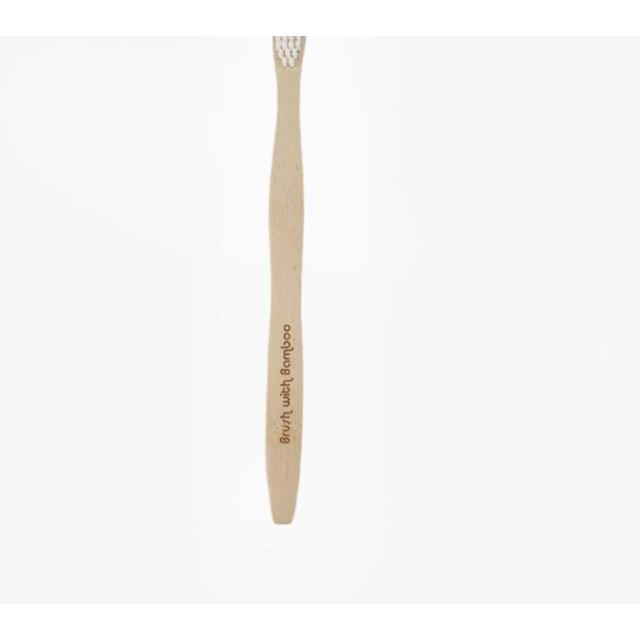toothbrush: (246, 37, 314, 546)
